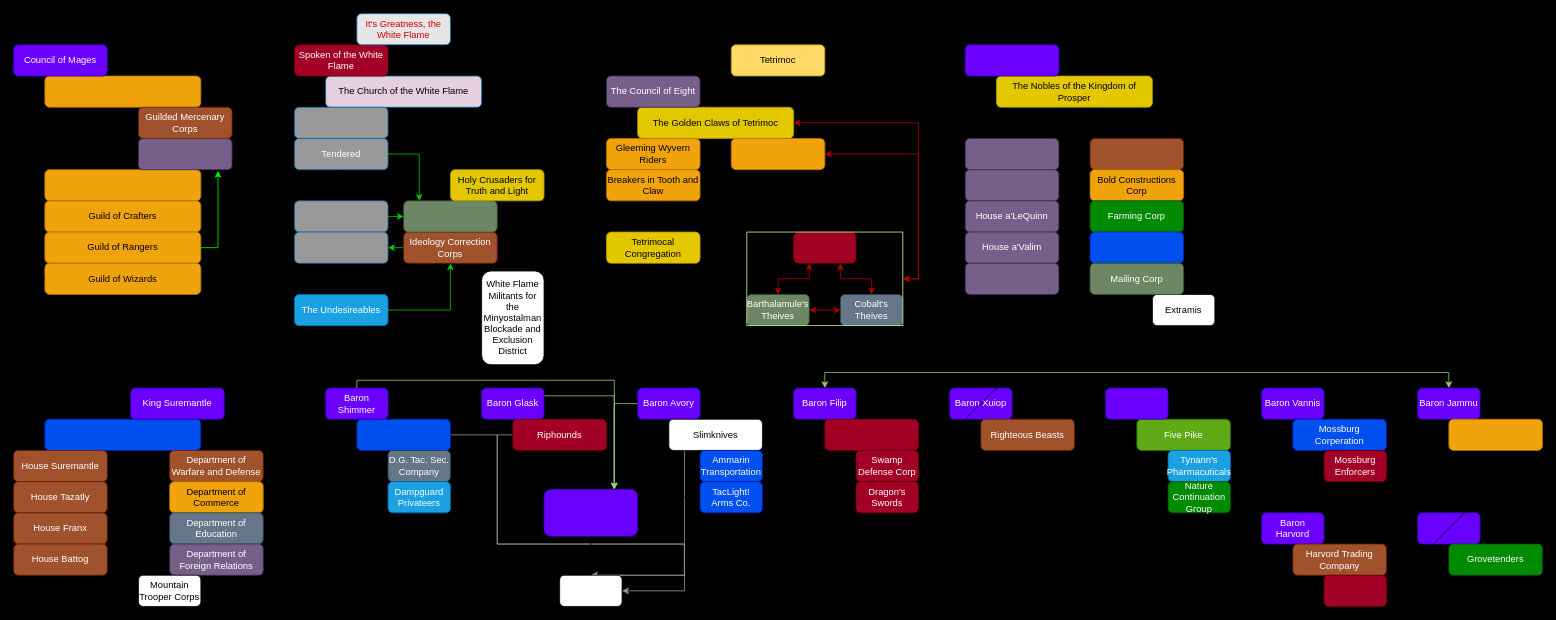
Image size: 1556x620. Some labels were removed from this diagram. The shapes that lost their labels are listed below. From the top down, each one's centre as x and y in pixels, then its label:
At [1011,60]: "King Simonson".
At [122,91]: "Guild of Adventurers".
At [341,122]: "Firstchurch".
At [185,154]: "Localized Defense Forces".
At [777,154]: "Golden Merchant's Company".
At [1011,154]: "House a'Haruuc".
At [1136,154]: "Arthur's Knights".
At [122,185]: "Guild of Merchants".
At [1011,185]: "House a'Fen".
At [341,216]: "Patron".
At [450,216]: "Homeland Force".
At [341,247]: "Unseen".
At [824,247]: "Agrandica's Theives".
At [1136,247]: "Weaving & Educating Corp".
At [1011,278]: "House a'Nyrk".
At [1136,403]: "Baron J'Tail".
At [122,434]: "Council of Houses".
At [403,434]: "Dampguard".
At [871,434]: "Knights in Red".
At [1495,434]: "Hillkeep Loyalists".
At [590,512]: "South Eastern Alliance of Security (SEASec)".
At [1448,528]: "Baron Cassindil".
At [590,590]: "The Company".
At [1354,590]: "Harvord Contracting".
